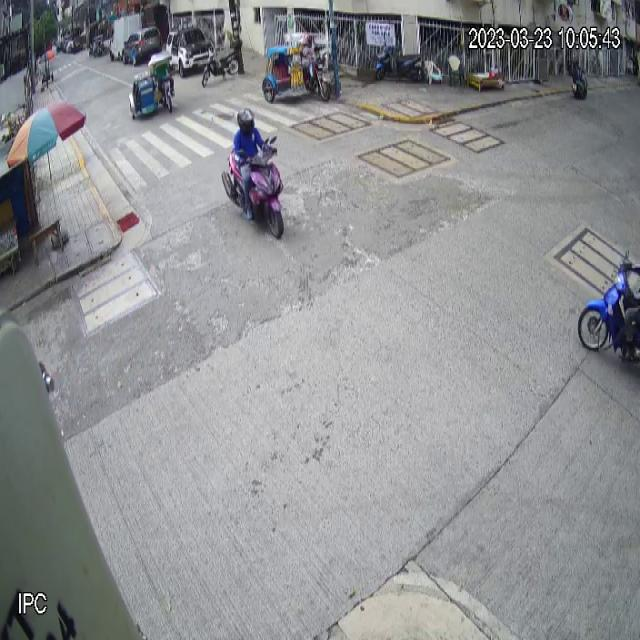Motorcycle: (220, 133, 284, 240)
Tricycle: (261, 32, 331, 103), (129, 51, 173, 120)
